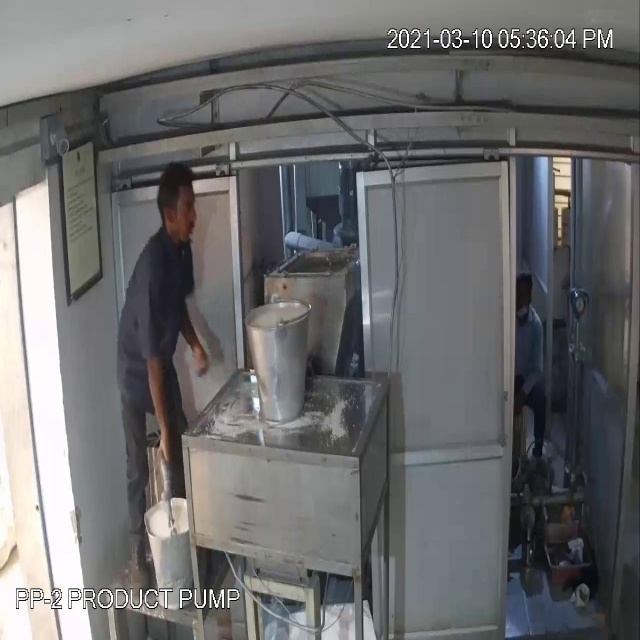Sin_guantes: (138, 331, 174, 489)
